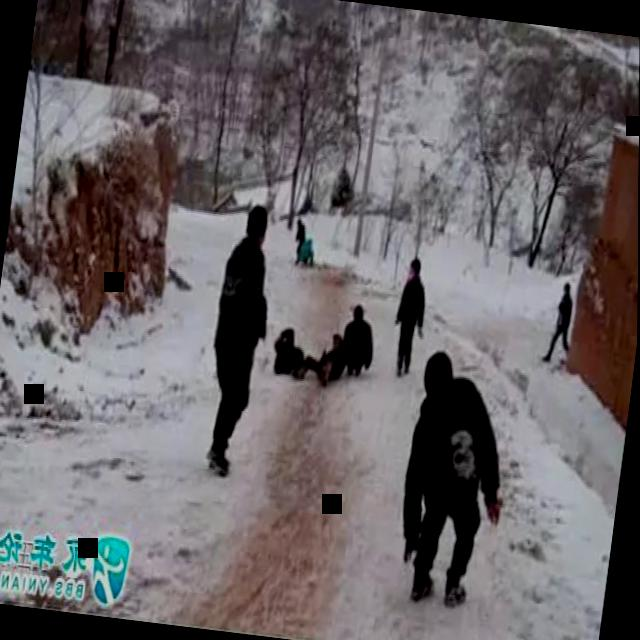Fall-Detected: (292, 206, 326, 265)
